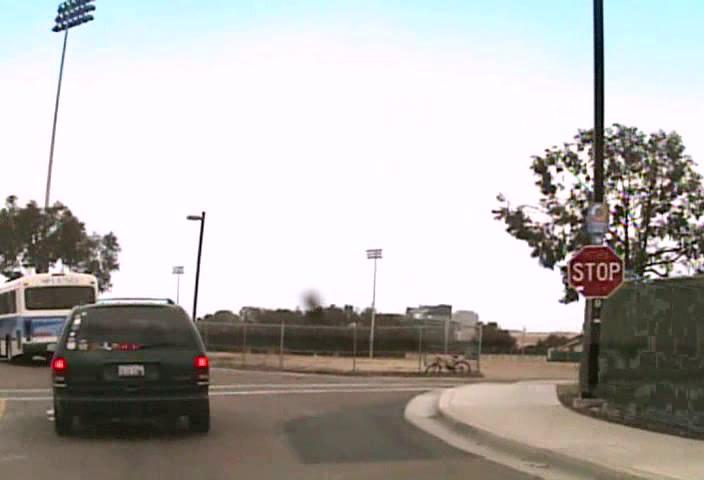stop: (567, 244, 624, 299)
